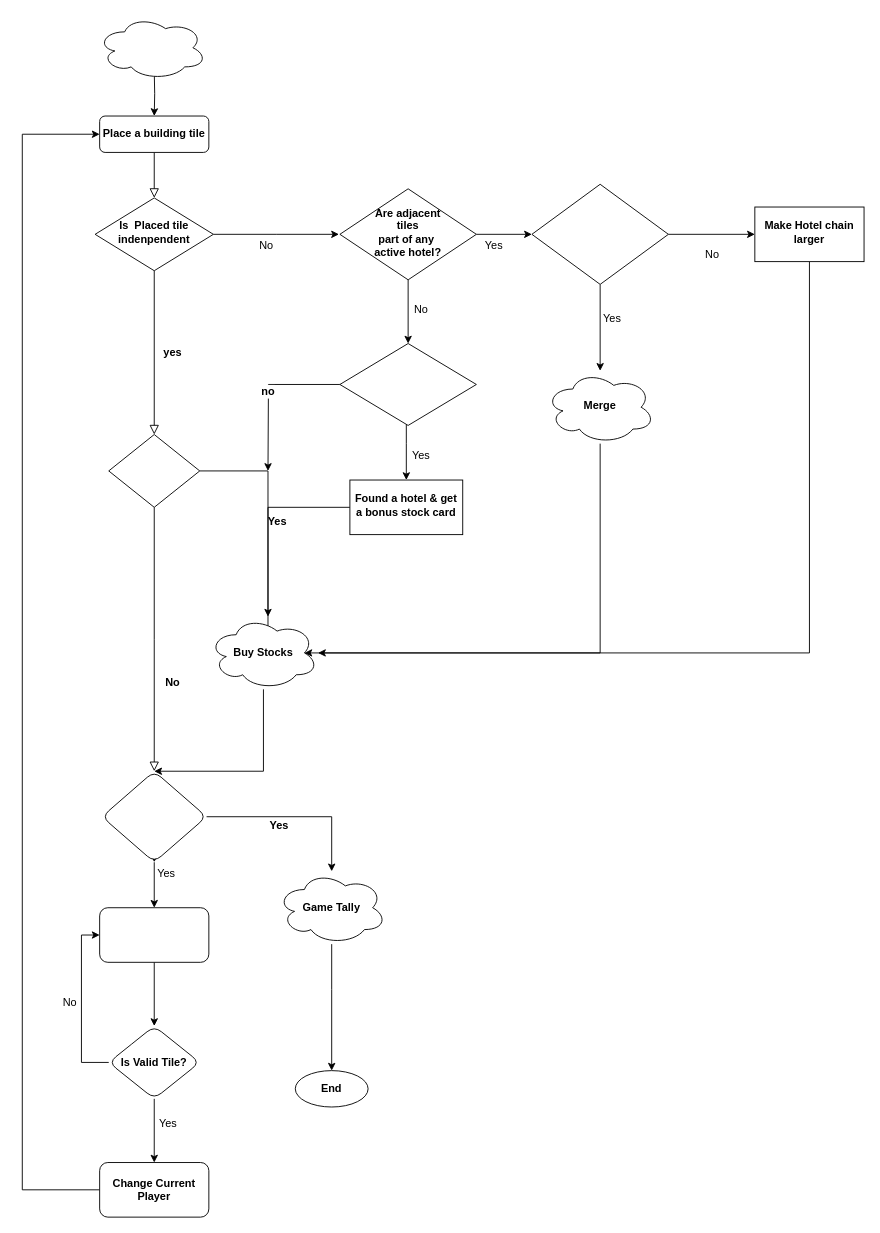
Some shapes in this 880 by 1233 pixel diagram are drawn without their labels. The centre of each missing label's shape, as x and y in pixels:
Any Active Hotels: (154,470)
Are any inactive hotels?: (407,384)
Assign a tile to player: (154,934)
Do more than 1 adjacent tile belongs to active hotels: (599,233)
Is Game End?: (154,816)
Setup: (151,47)
